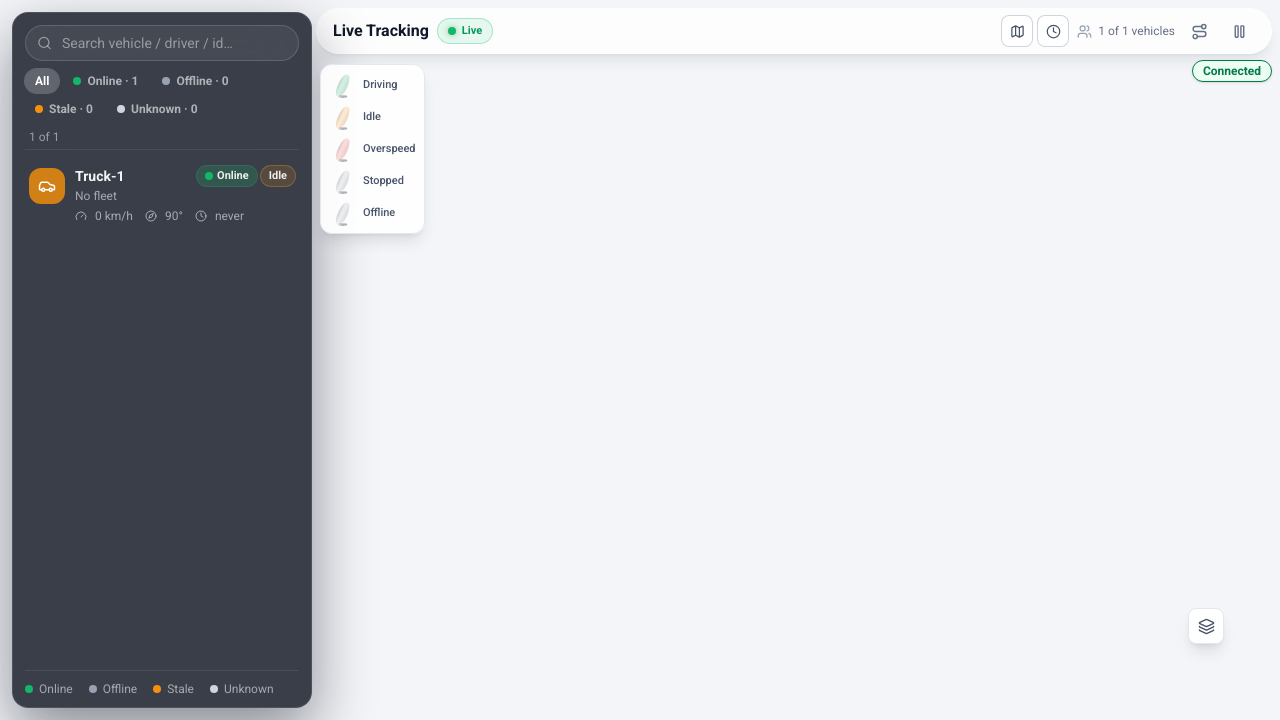
Test: MapPage LIVE/HISTORY modes (Sprint F §20) › history mode without a selection prompts to select a vehicle
The image size is (1280, 720).
Click the button named "History mode" at {"x": 1053, "y": 31}, box [1037,15,1069,47]
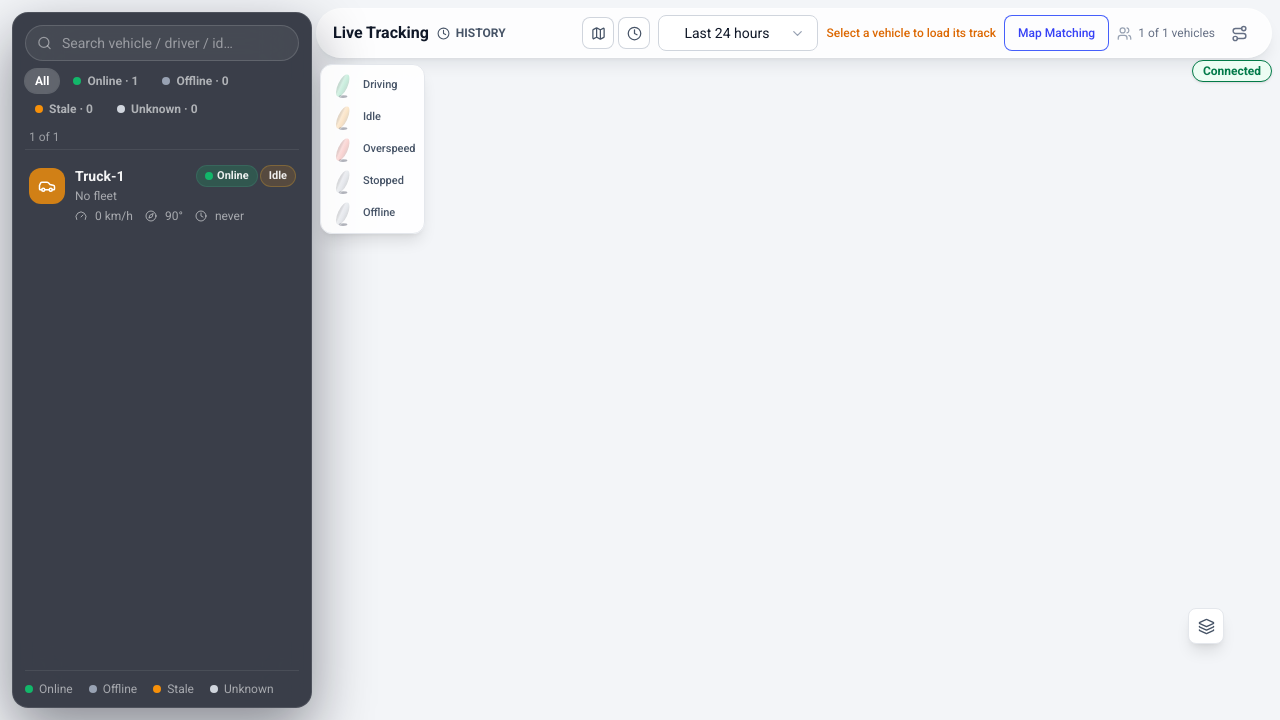
Check: the text "Select a vehicle to load its track" is shown, box [826,25,996,41]
